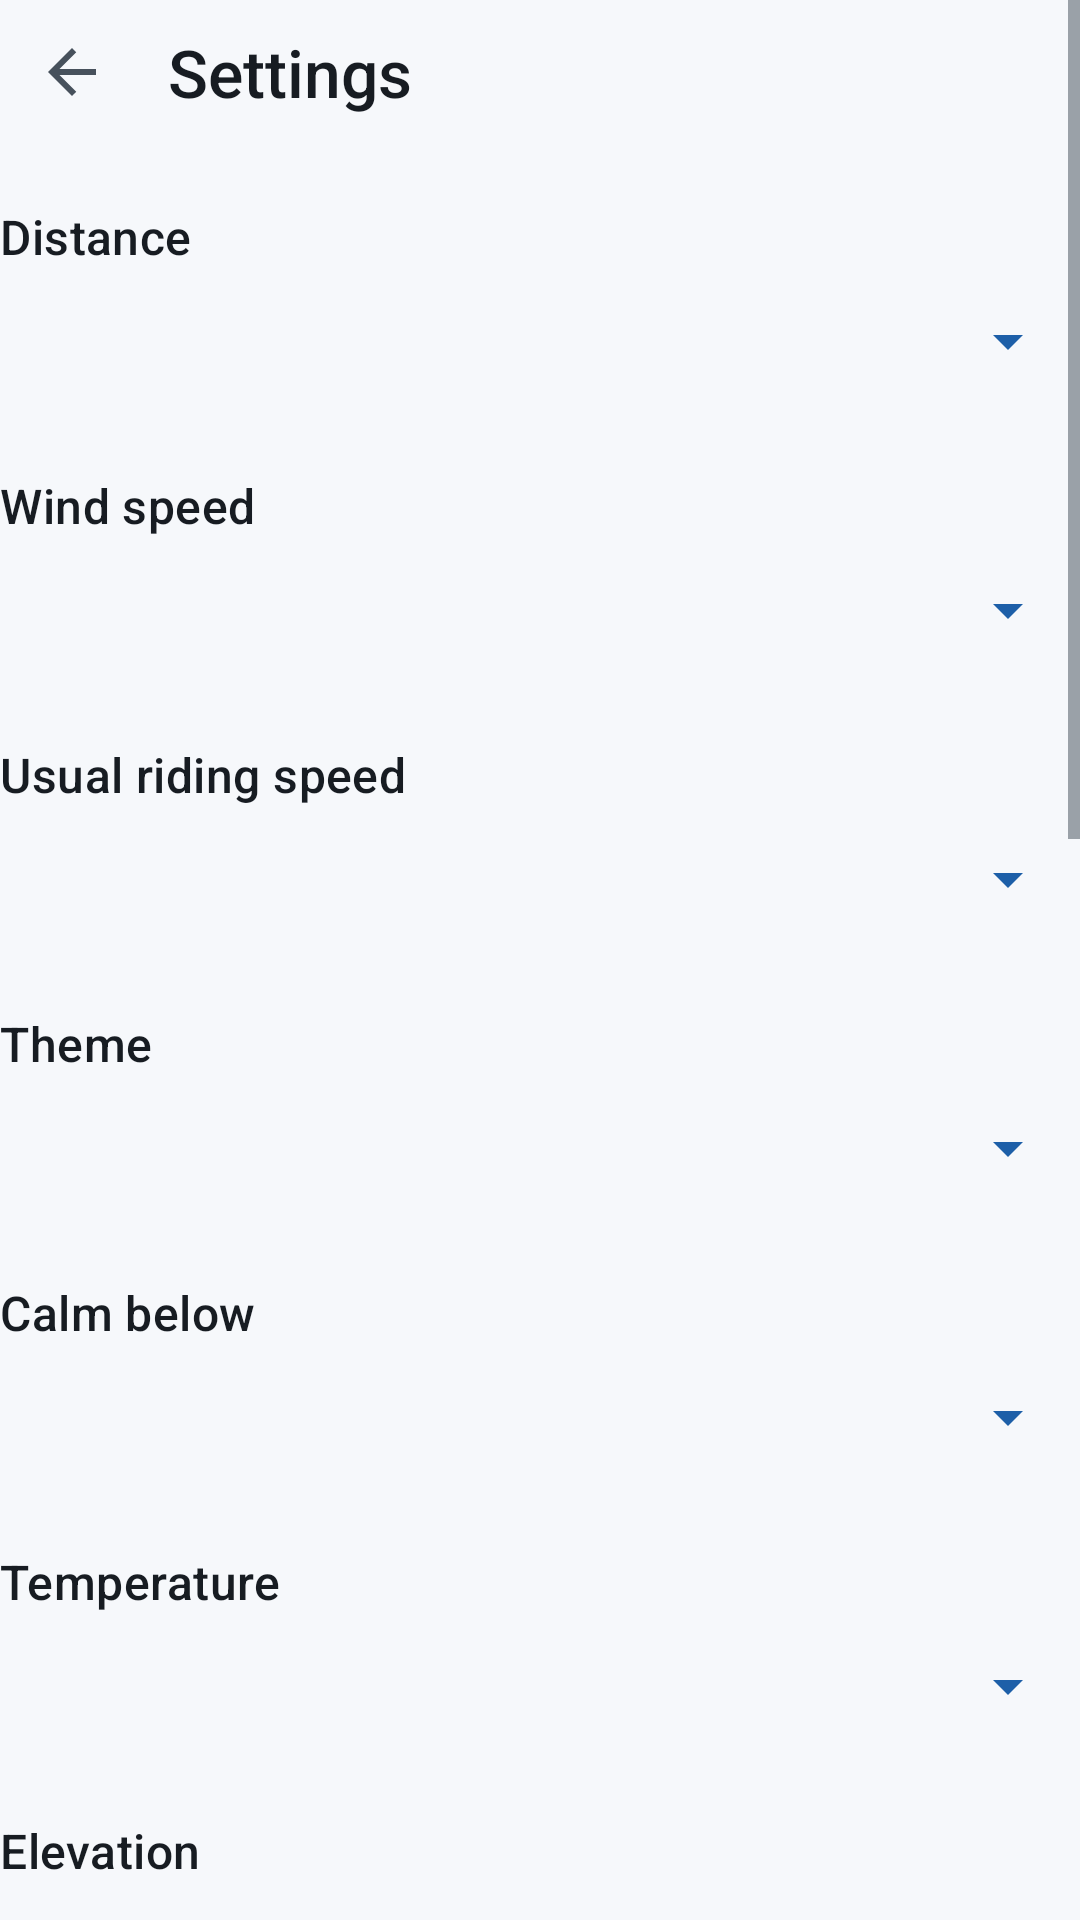

Where to tap for icons on this 1080px x 1920px app screen, as (x,y):
Back: (72,72)
